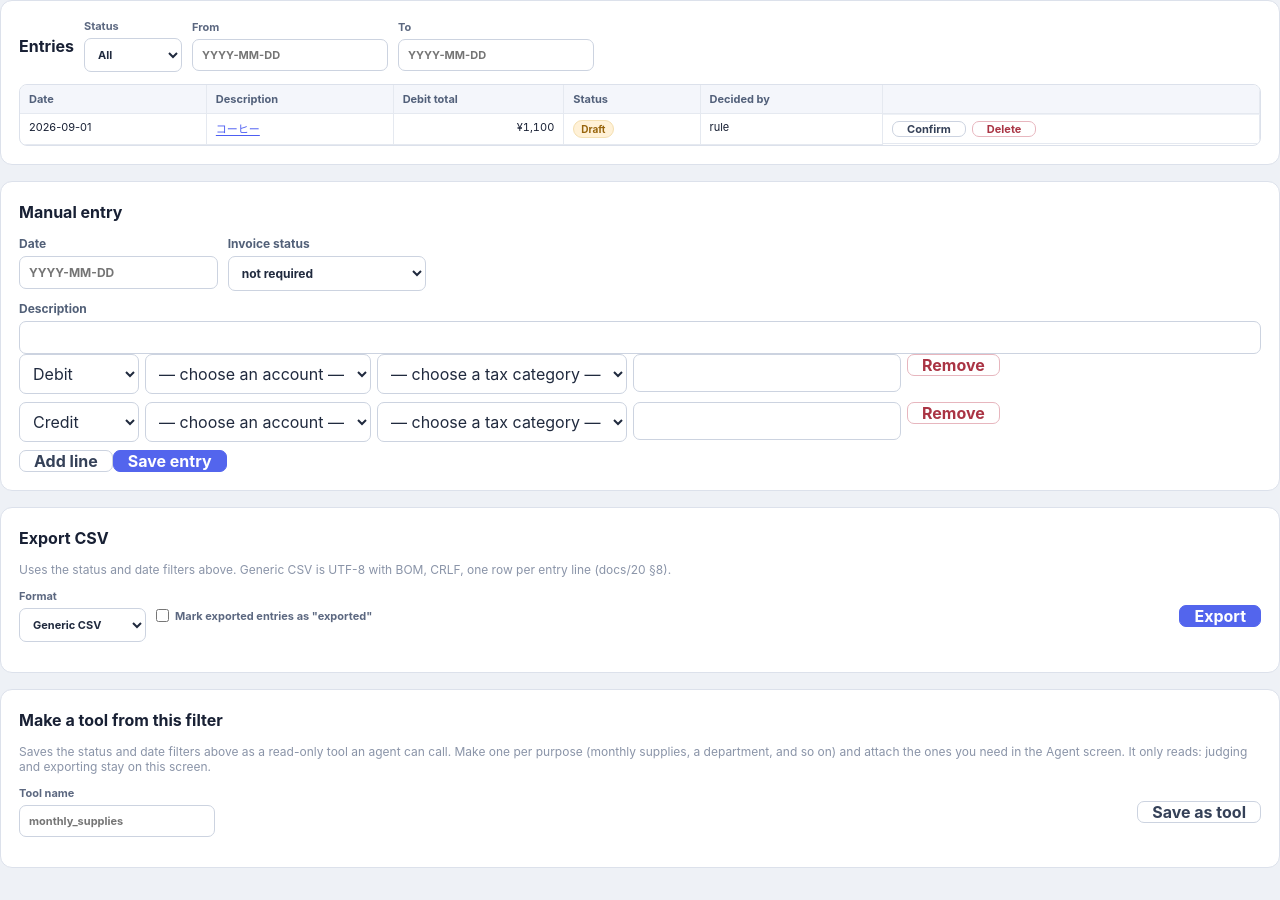
Scenario: ExportTab: この条件をツールにする › 例外: 保存が失敗しても落ちず、原因を出して操作を続けられる
Type "dup_name" into the field labelled "Tool name" at {"x": 117, "y": 821}, box [19,805,215,837]
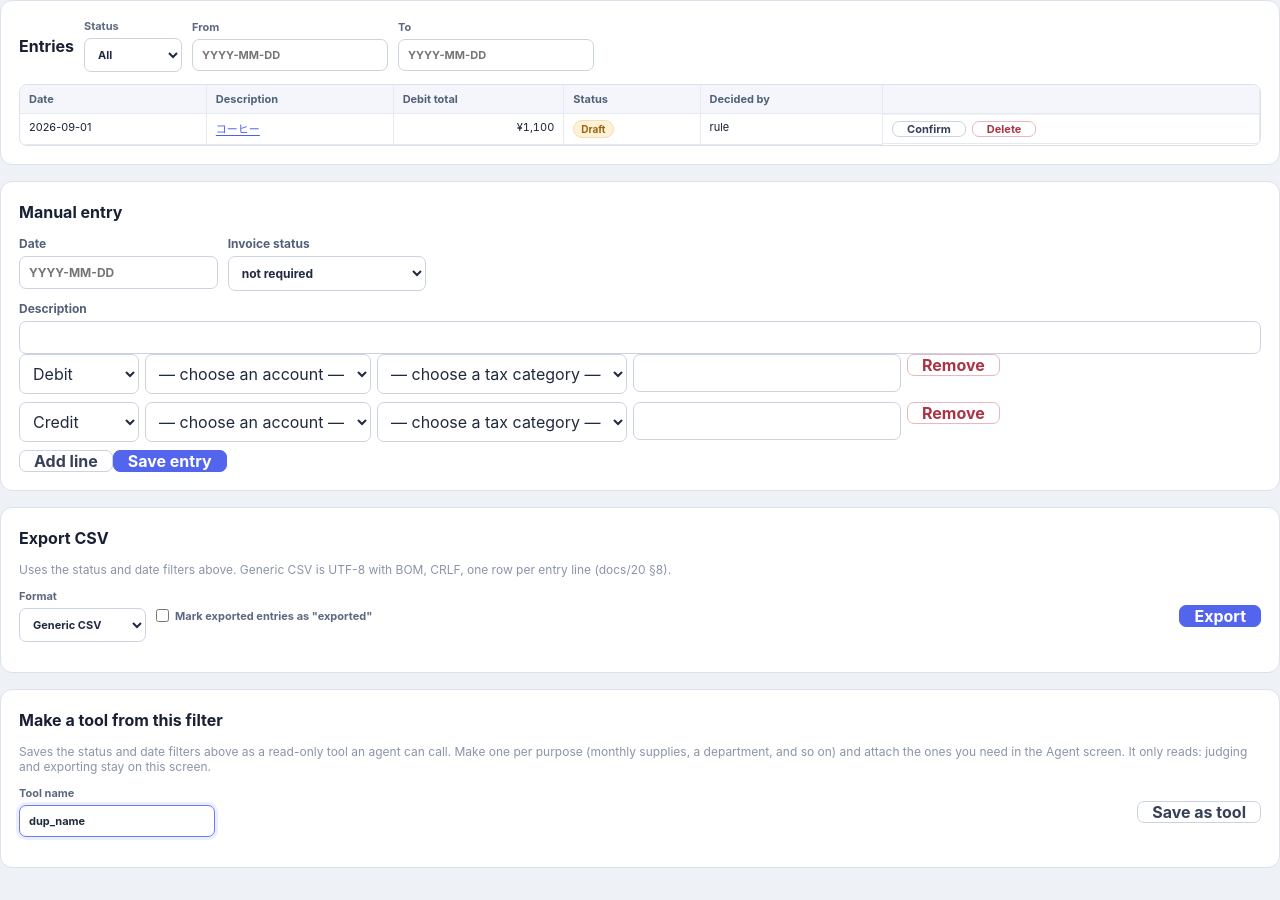
Click the button "Save as tool" at {"x": 1199, "y": 812}, box [1137,800,1261,822]
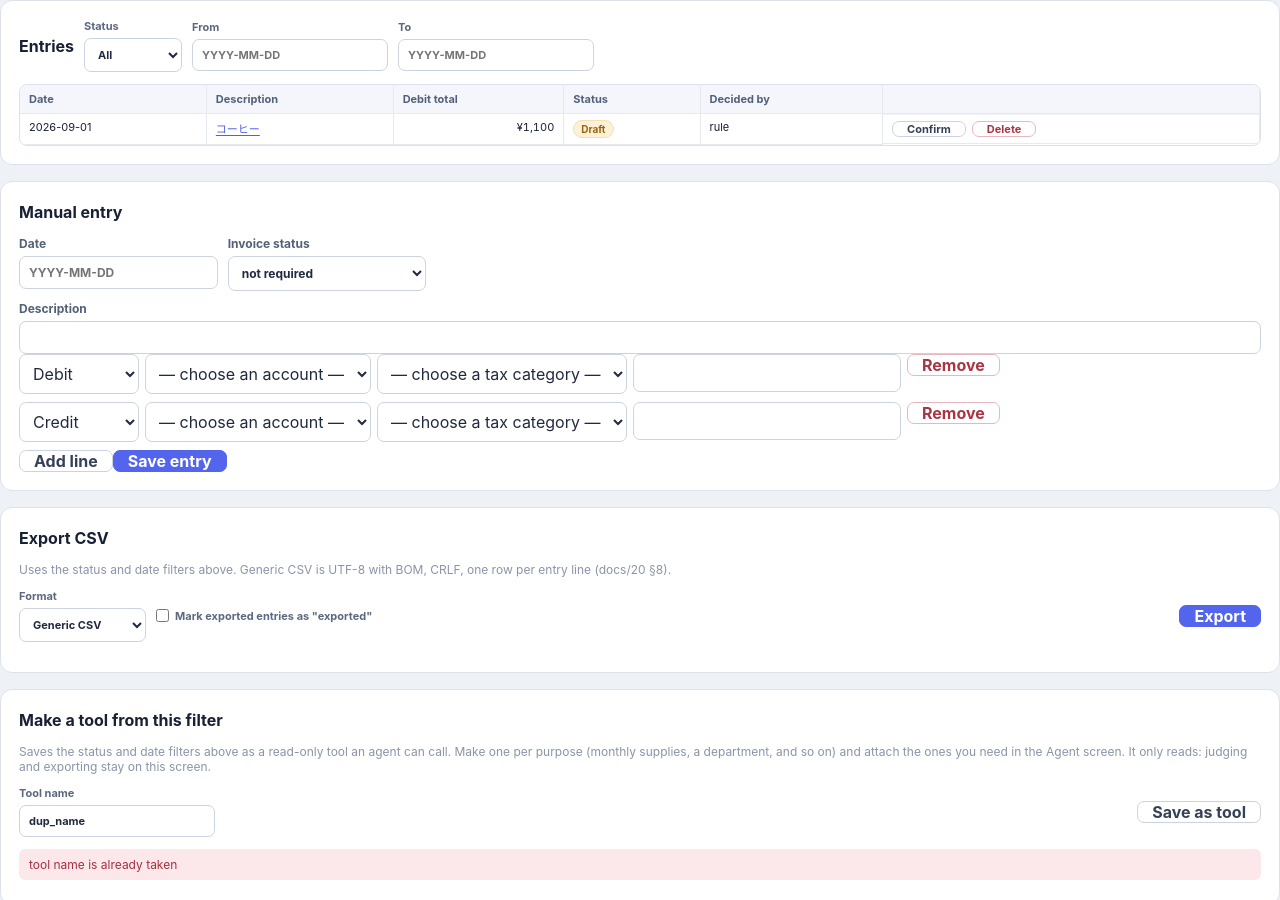
Check: the text "tool name is already taken" is shown, box [19,849,1261,880]
